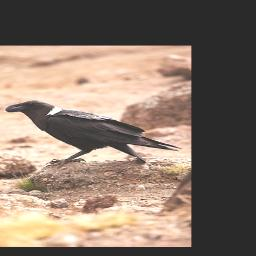Crow: (3, 98, 182, 171)
